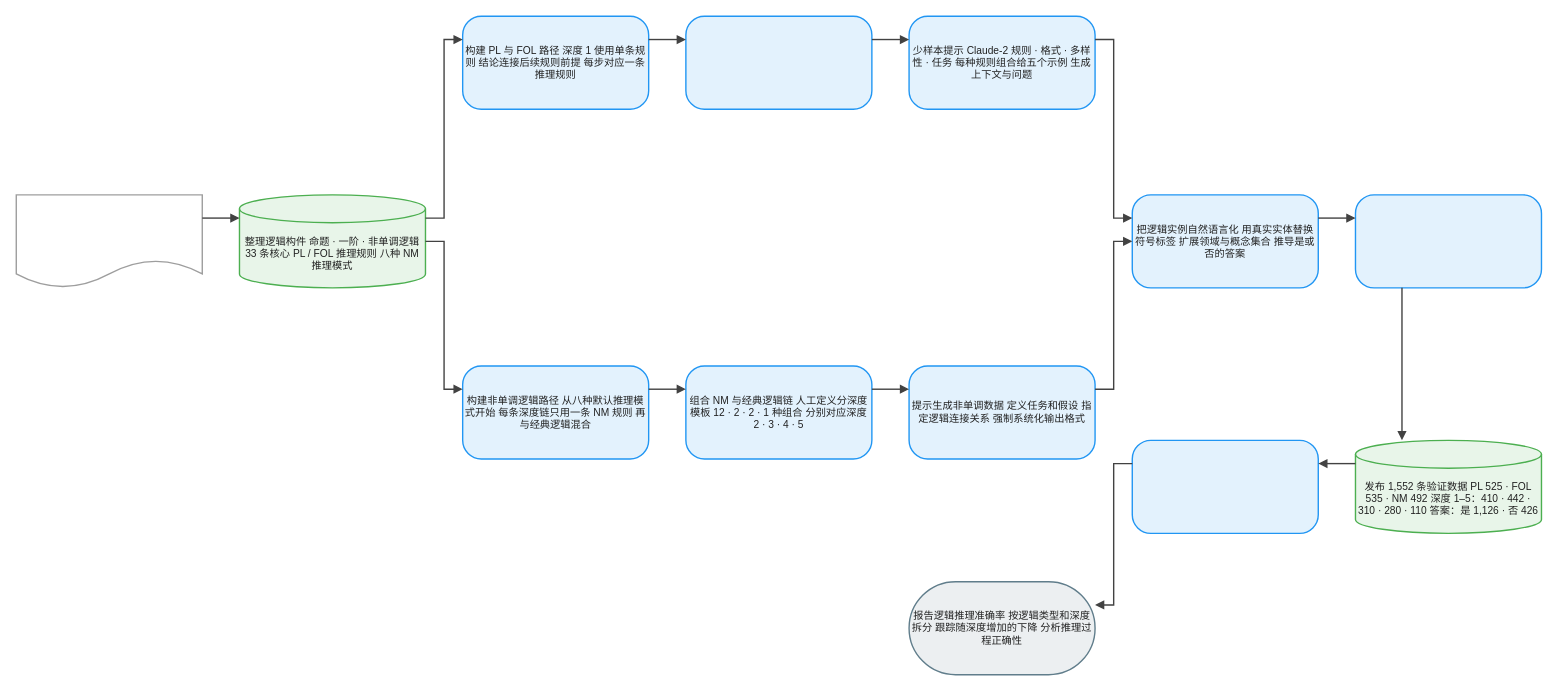
This 1559x692 diagram has some shape labels left out. Each missing label, with the box of its shape:
人工验证并修订 检查预期逻辑关系 修正故事错误 · 语法 · 拼写 筛选或改写高质量实例: (1354, 194, 1542, 288)
定义多步逻辑推理 二元上下文蕴含任务 明确设置一至五步深度 分开三类逻辑体系: (15, 194, 203, 288)
组合单调逻辑规则链 第 i 步结论进入第 i+1 步前提 创建 71 种组合 覆盖深度 2 至 5: (685, 15, 872, 110)
评测六个 LLM 零样本思维链提示 预测二元蕴含标签 检查生成的推理链: (1131, 439, 1319, 534)
